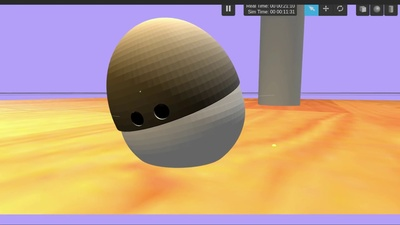mira_robot: (107, 16, 247, 168)
